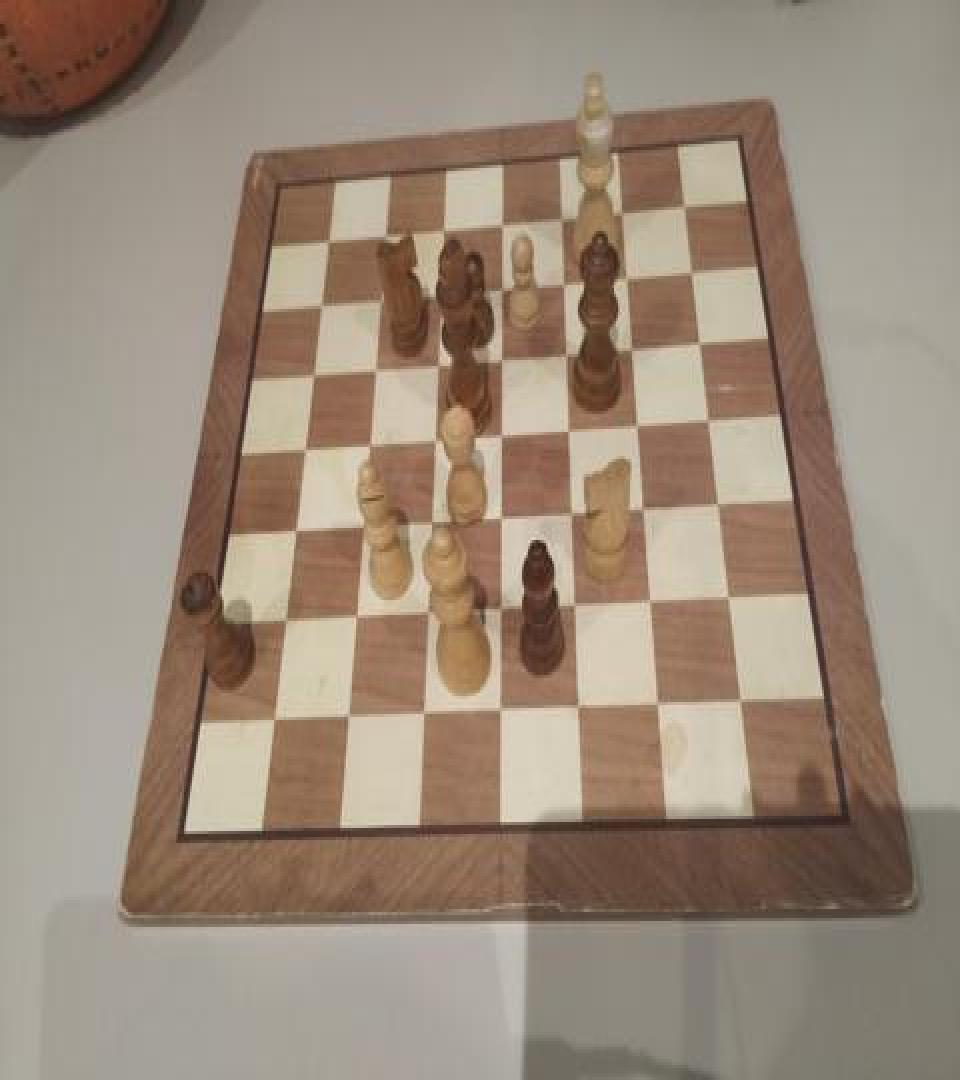xcorner: (374, 280, 394, 311), (265, 706, 285, 736), (416, 700, 436, 730), (572, 694, 592, 724), (651, 690, 671, 720), (731, 687, 751, 717), (277, 606, 297, 636), (421, 598, 441, 628), (494, 594, 514, 624), (568, 591, 588, 621), (720, 584, 740, 614), (287, 514, 307, 544), (355, 510, 375, 540), (424, 506, 444, 536), (494, 502, 514, 532), (565, 498, 585, 528), (637, 494, 657, 524), (709, 489, 729, 519), (297, 430, 317, 460), (362, 426, 382, 456), (428, 423, 448, 453), (495, 418, 515, 448), (562, 414, 582, 444), (630, 410, 650, 440), (699, 404, 719, 434), (306, 356, 326, 386), (368, 351, 388, 381), (431, 345, 451, 375), (495, 340, 515, 370), (559, 336, 579, 366), (625, 332, 645, 362), (691, 327, 711, 357), (314, 285, 334, 315), (434, 276, 454, 306), (495, 270, 515, 300), (557, 266, 577, 296), (620, 261, 640, 291), (683, 255, 703, 285), (321, 220, 341, 250), (379, 216, 399, 246), (437, 212, 457, 242), (495, 206, 515, 236), (555, 201, 575, 231), (615, 195, 635, 225), (675, 190, 695, 220), (340, 704, 360, 733), (493, 698, 513, 727), (348, 602, 368, 631), (643, 587, 663, 616)
